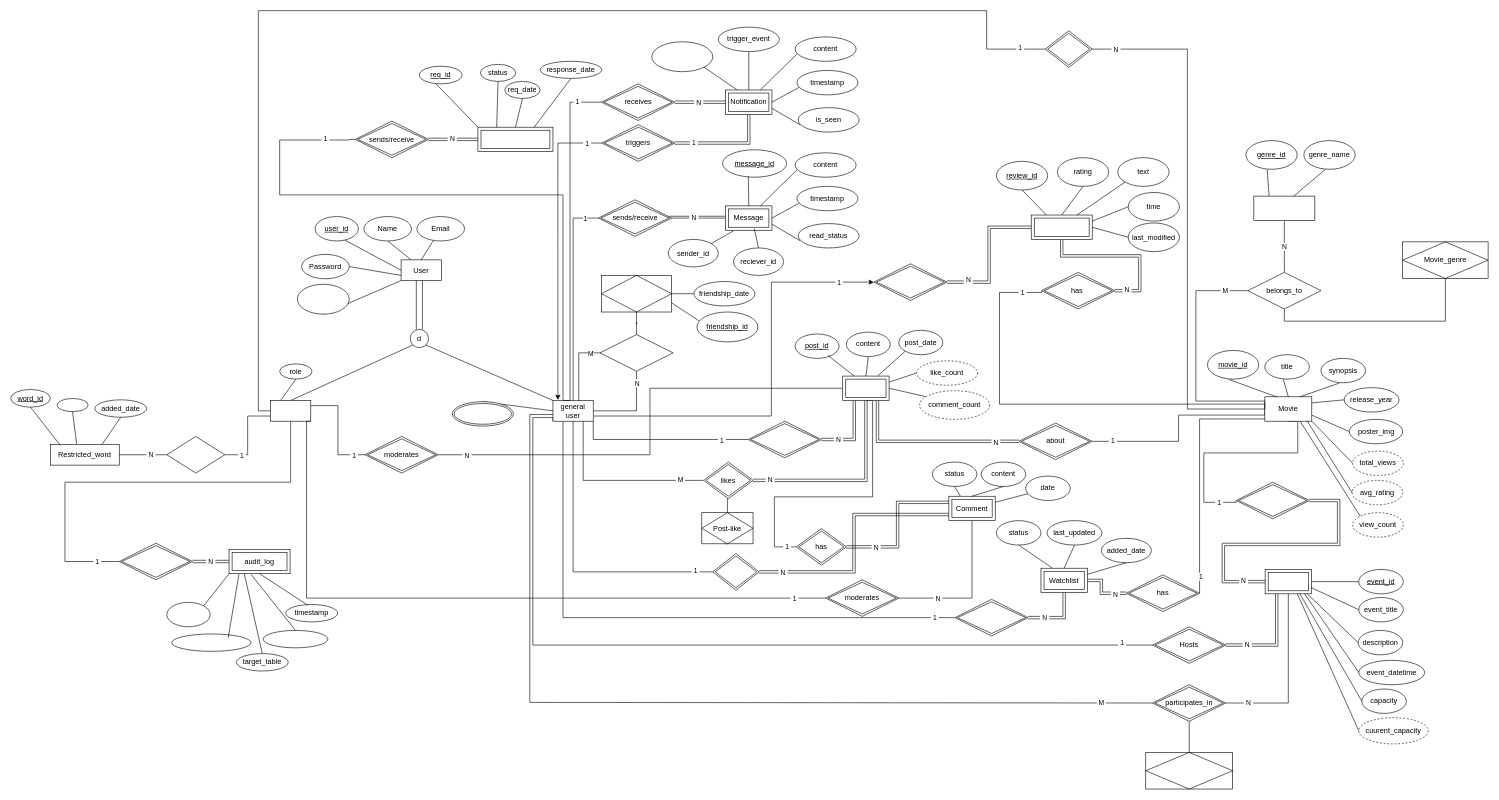
This 1499x800 diagram has some shape labels left out. The centre of each missing label's shape, as x and y in pixels:
"Admin" belongs at point (290, 410).
"admin_id" belongs at point (188, 614).
"creates" belongs at point (784, 439).
"Event" belongs at point (1288, 581).
"event_participants" belongs at point (1189, 770).
"favorite_genres" belongs at point (482, 413).
"featured_in" belongs at point (1272, 500).
"freind_request" belongs at point (515, 139).
"friends" belongs at point (636, 293).
"friends_with" belongs at point (636, 352).
"genre" belongs at point (1284, 208).
"maintains" belongs at point (991, 617).
"makes" belongs at point (735, 571).
"managed-by" belongs at point (195, 454).
"manages" belongs at point (1068, 48).
"notification_id" belongs at point (682, 56).
"operation_performed" belongs at point (211, 642).
"Post" belongs at point (865, 387).
"Registration Date" belongs at point (323, 299).
"Relationship" belongs at point (155, 561).
"Review" belongs at point (1061, 226).
"target_record_id" belongs at point (295, 639).
"word" belongs at point (72, 405).
"writes" belongs at point (910, 281).
